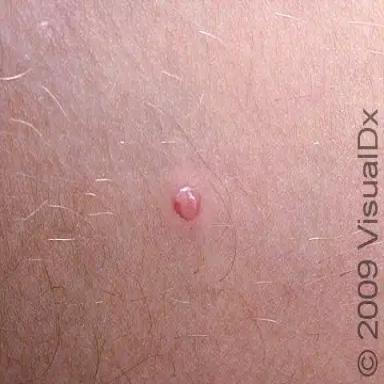Molluscum-Contagiosum: (173, 188, 201, 221)
